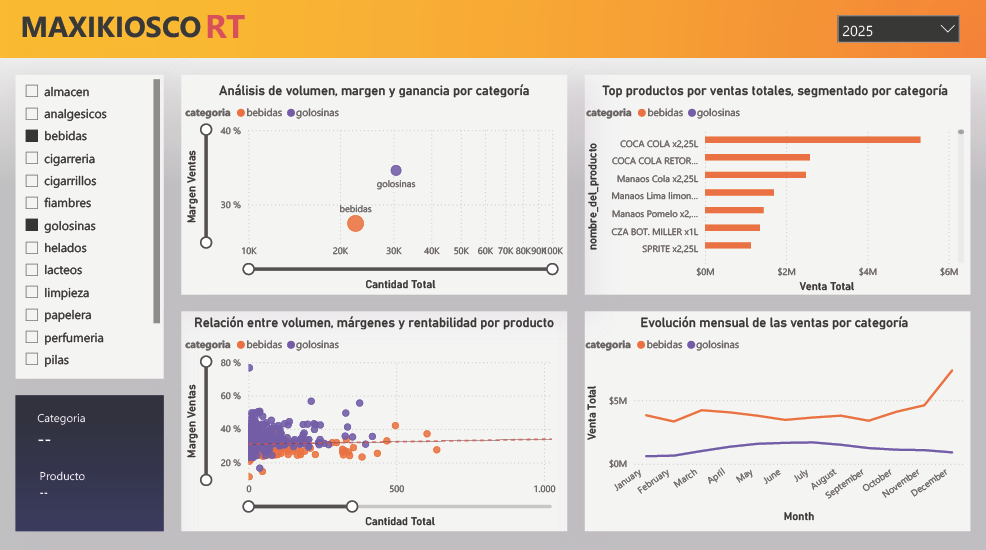

The dashboard page shown, as its layout file describes it:
{"tool":"powerbi","page":{"name":"Dashboard de productos","canvas":[1280,720],"ordinal":1},"visuals":[{"type":"scatterChart","title":"Relación entre volumen, márgenes y rentabilidad por producto","fields":{"Series":["dim_categoria.categoria"],"Y":["medidas.Margen Ventas"],"X":["medidas.Cantidad Total"],"Category":["dim_producto.nombre_del_producto"]},"box":[236.2,405,498.8,286.2],"z":0},{"type":"slicer","fields":{"Values":["dim_categoria.categoria"]},"box":[21.4,100,191.4,392.9],"z":1000},{"type":"scatterChart","title":"Análisis de volumen, margen y ganancia por categoría","fields":{"X":["medidas.Cantidad Total"],"Category":["dim_categoria.categoria"],"Series":["dim_categoria.categoria"],"Y":["medidas.Margen Ventas"],"Size":["medidas.Ganancia Total"]},"box":[236.2,100,498.8,282.5],"z":2000},{"type":"clusteredBarChart","title":"Top productos por ventas totales, segmentado por categoría","fields":{"Category":["dim_producto.nombre_del_producto"],"Series":["dim_categoria.categoria"],"Y":["medidas.Venta Total"]},"box":[755,100,500,285],"z":3000},{"type":"lineChart","title":"Evolución mensual de las ventas por categoría","fields":{"Category":["dim_fecha.fecha.Variation.Date Hierarchy.Month"],"Series":["dim_categoria.categoria"],"Y":["medidas.Venta Total"]},"box":[755,410,500,275],"z":4000},{"type":"slicer","fields":{"Values":["dim_fecha.fecha.Variation.Date Hierarchy.Year"]},"box":[1076.7,11.7,178.3,60],"z":5000},{"type":"textbox","box":[21.7,5,255,71.7],"z":6000},{"type":"textbox","box":[261.7,0,190,198.3],"z":7000},{"type":"cardVisual","fields":{"Data":["medidas.Categoria"]},"box":[20,513.3,191.7,91.7],"z":8000},{"type":"cardVisual","fields":{"Data":["medidas.Producto titulo"]},"box":[23.3,588.3,191.7,80],"z":9000}]}

Visuals, with their boxes in screenshot pixels (x1, y1, x2, y2), scaled from the page's 1280x720 canvas onto the 986x550 screenshot:
"Relación entre volumen, márgenes y rentabilidad por producto" scatterChart: bbox(182, 309, 566, 528)
slicer - dim_categoria.categoria: bbox(16, 76, 164, 377)
"Análisis de volumen, margen y ganancia por categoría" scatterChart: bbox(182, 76, 566, 292)
"Top productos por ventas totales, segmentado por categoría" clusteredBarChart: bbox(582, 76, 967, 294)
"Evolución mensual de las ventas por categoría" lineChart: bbox(582, 313, 967, 523)
slicer - dim_fecha.fecha.Variation.Date Hierarchy.Year: bbox(829, 9, 967, 55)
textbox: bbox(17, 4, 213, 59)
textbox: bbox(202, 0, 348, 151)
cardVisual - medidas.Categoria: bbox(15, 392, 163, 462)
cardVisual - medidas.Producto titulo: bbox(18, 449, 166, 511)
